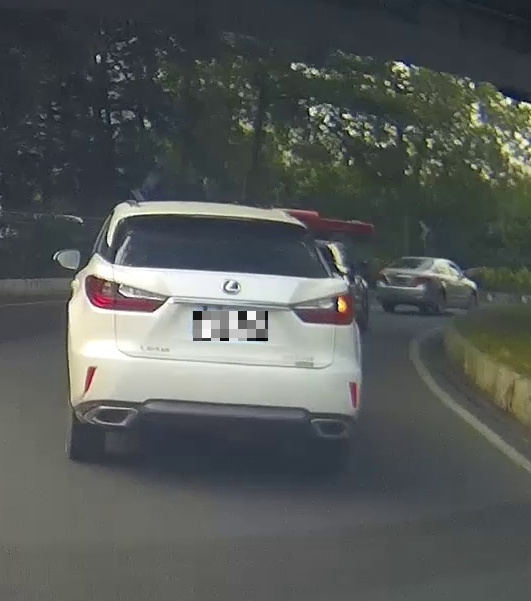L_light: (83, 275, 170, 313), (377, 274, 389, 283)
R_light: (289, 291, 355, 326), (413, 276, 430, 284)
T_light: (208, 216, 244, 227), (413, 259, 422, 262)
day-no: (376, 255, 434, 314)
day-right: (66, 201, 360, 474)
plate_1: (193, 311, 268, 341)
